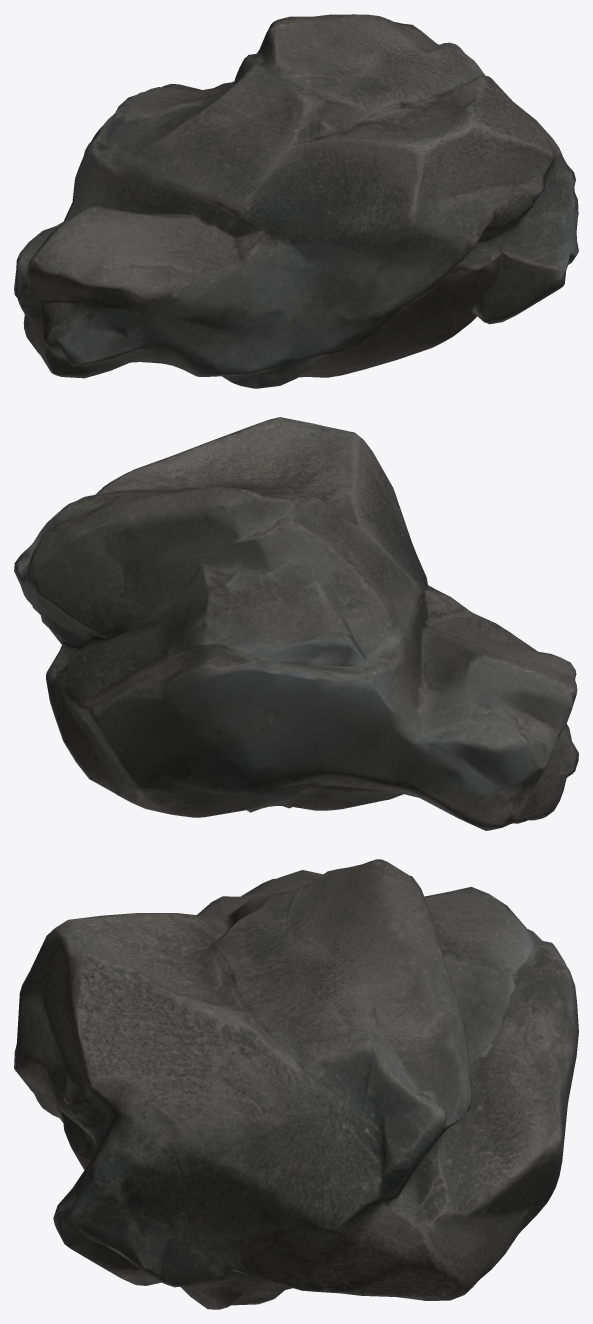
Rendered from SM_yh3naco_tier_2.gltf.
3 views of the same model, one above another, from view 1: azimuth 30°, elevation 25°; view 2: azimuth 150°, elevation 25°; view 3: azimuth 270°, elevation 25° (orthographic). The views are drawn at different scales.
Parts seen in each view (by area): view 1: yh3naco_LOD2_TIER2_000; view 2: yh3naco_LOD2_TIER2_000; view 3: yh3naco_LOD2_TIER2_000.
Boxes of the visible parts, bbox=[...] form: yh3naco_LOD2_TIER2_000: bbox=[14, 14, 578, 388]; yh3naco_LOD2_TIER2_000: bbox=[14, 417, 578, 830]; yh3naco_LOD2_TIER2_000: bbox=[14, 859, 578, 1309].
Size of the model in its own units: 0.6014 by 0.3819 by 0.4598.
1 material, 1 textured.
